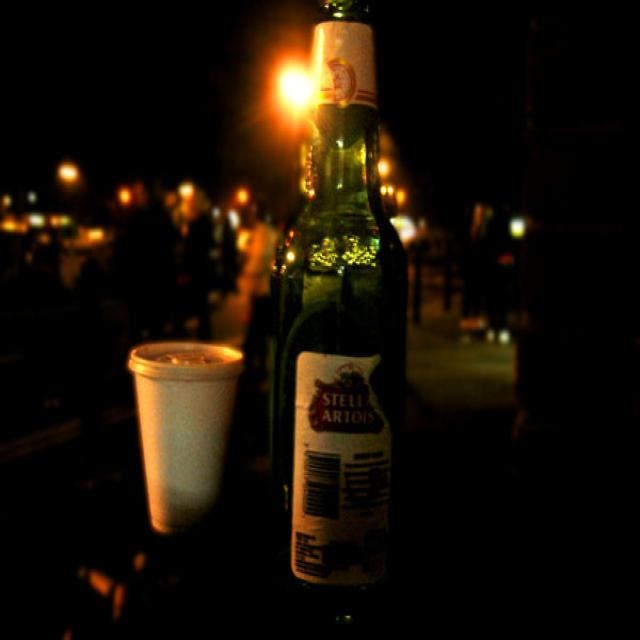Bottle: (273, 0, 486, 613)
Cup: (135, 301, 243, 546)
